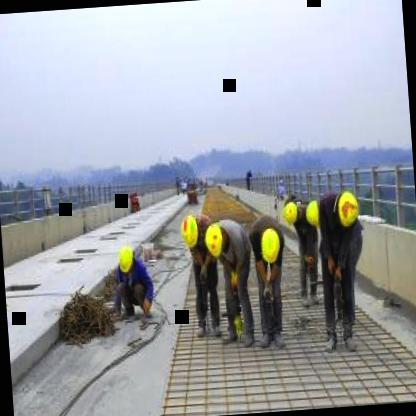helmet: (178, 209, 204, 264), (333, 182, 361, 232), (258, 223, 284, 274), (204, 218, 229, 260), (301, 196, 328, 232), (115, 244, 139, 276), (280, 200, 302, 226)
